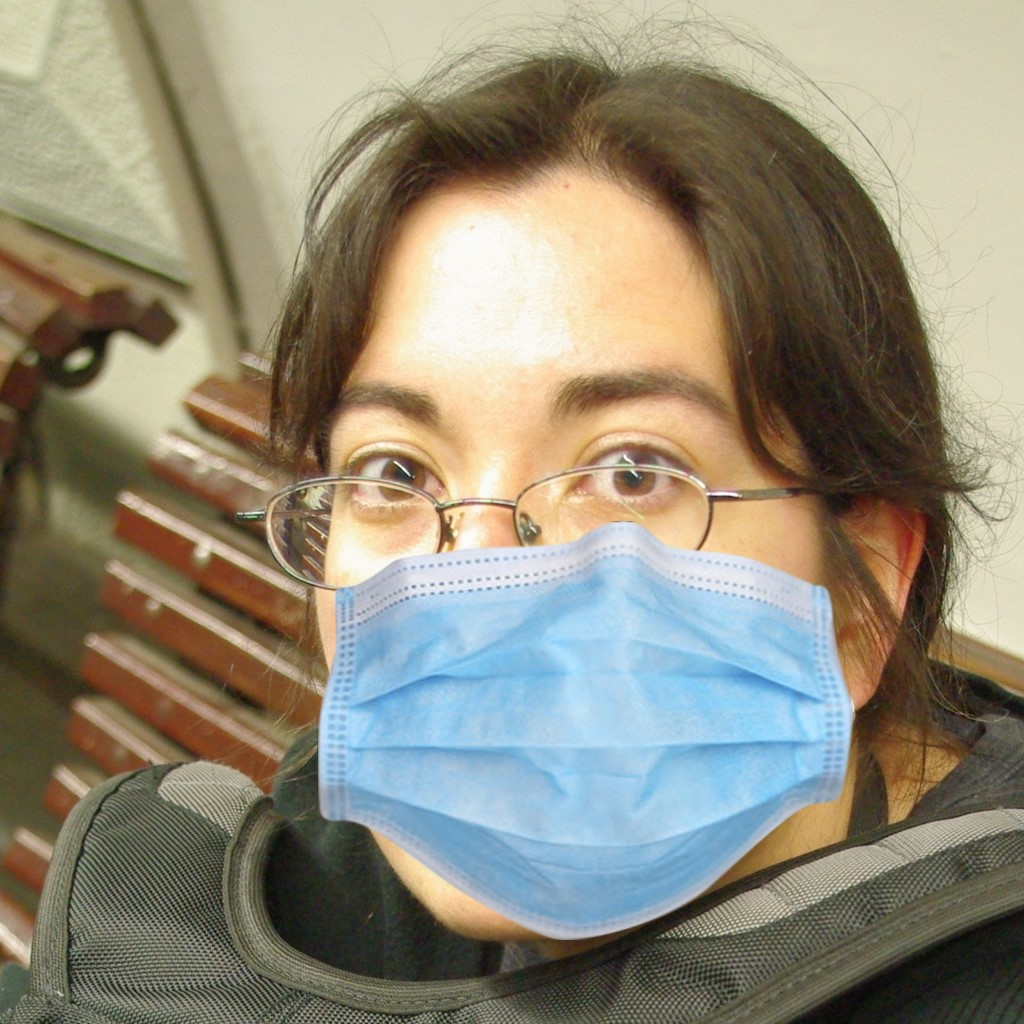con_mascara: (293, 166, 854, 940)
